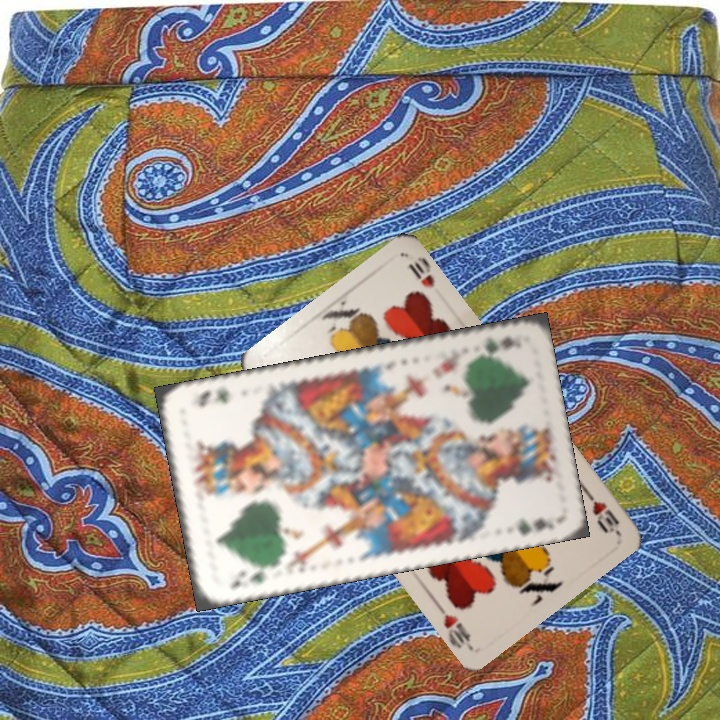GK: (469, 331, 525, 361), (226, 561, 274, 592)
H10: (580, 485, 622, 536)
